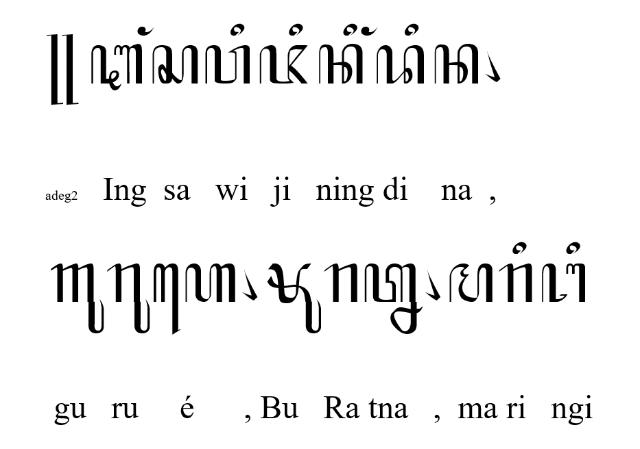Bu: (267, 263, 323, 335)
I: (90, 43, 142, 92)
adeg2: (46, 33, 80, 105)
d: (376, 43, 426, 85)
e1: (152, 262, 180, 336)
gu: (50, 263, 106, 335)
h: (184, 264, 236, 304)
i: (512, 240, 528, 256), (403, 23, 419, 37), (230, 23, 244, 37), (288, 24, 304, 36), (343, 23, 357, 36), (566, 243, 580, 256)
j: (260, 45, 308, 85)
kom: (484, 50, 501, 82), (241, 270, 257, 302), (425, 269, 441, 301)
m: (448, 264, 494, 304)
n: (318, 43, 364, 85), (434, 44, 480, 86)
ng: (136, 26, 154, 36), (360, 26, 378, 36)
nga: (541, 262, 587, 304)
r: (324, 263, 360, 303), (498, 264, 534, 304)
ru: (107, 264, 151, 335)
s: (151, 44, 199, 86)
tn: (364, 263, 424, 335)
w: (205, 44, 251, 84)
